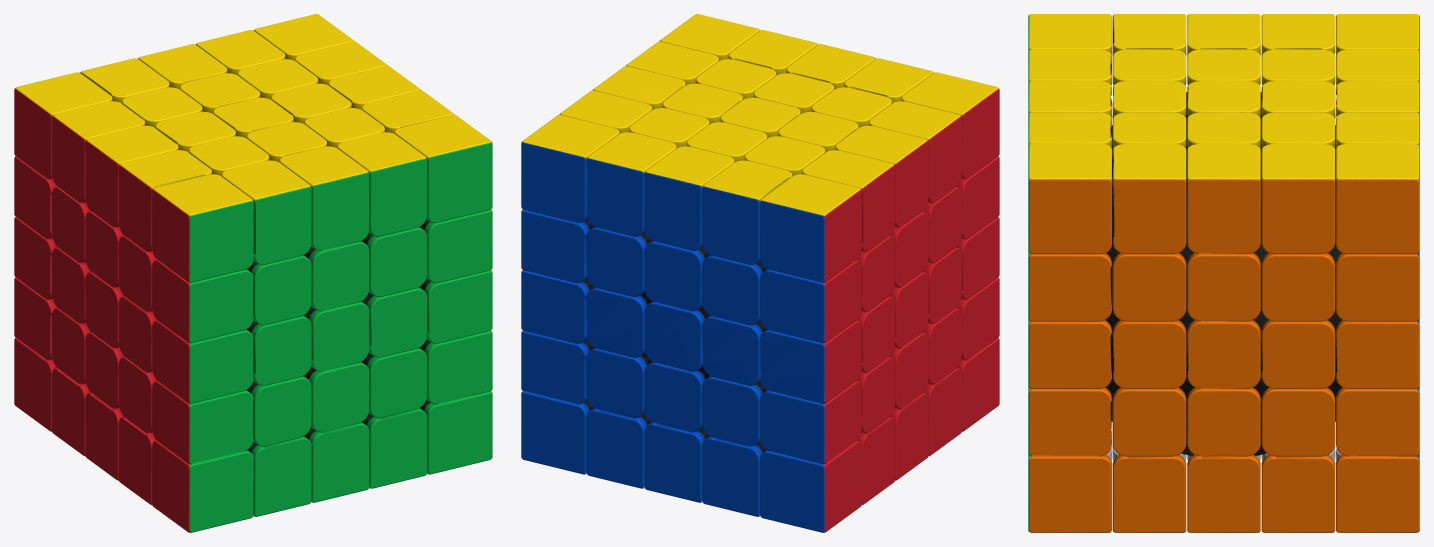
The picture shows the model from 3 angles, left to right: view 1: azimuth 30°, elevation 25°; view 2: azimuth 150°, elevation 25°; view 3: azimuth 270°, elevation 25°; orthographic projection. The views are drawn at different scales.
Parts seen in each view (by area): view 1: piece_-2,2,2, piece_-2,-2,2, piece_2,2,2, piece_-2,1,2, piece_-2,0,2, piece_-2,-1,2, piece_-1,2,2, piece_1,2,2, piece_0,2,2, piece_-2,2,-2, piece_2,-2,2, piece_-2,2,-1 (+49 smaller); view 2: piece_-2,2,-2, piece_-2,-2,-2, piece_2,2,-2, piece_-2,1,-2, piece_-2,0,-2, piece_-2,-1,-2, piece_-1,2,-2, piece_0,2,-2, piece_1,2,-2, piece_-2,2,2, piece_2,-2,-2, piece_-2,2,0 (+49 smaller); view 3: piece_2,2,-2, piece_2,2,2, piece_2,2,-1, piece_2,2,1, piece_2,2,0, piece_2,-2,2, piece_2,-2,-2, piece_2,-2,1, piece_2,-2,-1, piece_2,-2,0, piece_2,1,-2, piece_2,0,-2 (+34 smaller).
Part boxes in pixels (<box>): piece_-2,2,2: <box>152,174,253,282</box>; piece_-2,-2,2: <box>152,441,253,532</box>; piece_2,2,2: <box>394,115,492,223</box>; piece_-2,1,2: <box>152,260,253,343</box>; piece_-2,0,2: <box>152,320,253,403</box>; piece_-2,-1,2: <box>152,381,253,464</box>; piece_-1,2,2: <box>221,160,311,264</box>; piece_1,2,2: <box>337,132,427,236</box>; piece_0,2,2: <box>279,146,369,250</box>; piece_-2,2,-2: <box>14,72,112,179</box>; piece_2,-2,2: <box>420,391,492,474</box>; piece_-2,2,-1: <box>52,101,145,203</box>; piece_-2,2,-2: <box>760,174,861,282</box>; piece_-2,-2,-2: <box>760,441,861,532</box>; piece_2,2,-2: <box>521,115,619,223</box>; piece_-2,1,-2: <box>760,260,861,343</box>; piece_-2,0,-2: <box>760,320,861,403</box>; piece_-2,-1,-2: <box>760,381,861,464</box>; piece_-1,2,-2: <box>702,160,792,264</box>; piece_0,2,-2: <box>644,146,734,250</box>; piece_1,2,-2: <box>586,132,676,236</box>; piece_-2,2,2: <box>901,72,999,179</box>; piece_2,-2,-2: <box>521,391,593,474</box>; piece_-2,2,0: <box>835,125,928,227</box>; piece_2,2,-2: <box>1336,144,1419,254</box>; piece_2,2,2: <box>1028,144,1111,254</box>; piece_2,2,-1: <box>1261,144,1335,254</box>; piece_2,2,1: <box>1112,144,1186,254</box>; piece_2,2,0: <box>1187,144,1260,254</box>; piece_2,-2,2: <box>1028,454,1111,532</box>; piece_2,-2,-2: <box>1336,454,1419,532</box>; piece_2,-2,1: <box>1112,454,1186,532</box>; piece_2,-2,-1: <box>1261,454,1335,532</box>; piece_2,-2,0: <box>1187,454,1260,532</box>; piece_2,1,-2: <box>1336,253,1419,321</box>; piece_2,0,-2: <box>1336,320,1419,388</box>.
Bounding box in the file's own units: 2 × 2 × 2.
